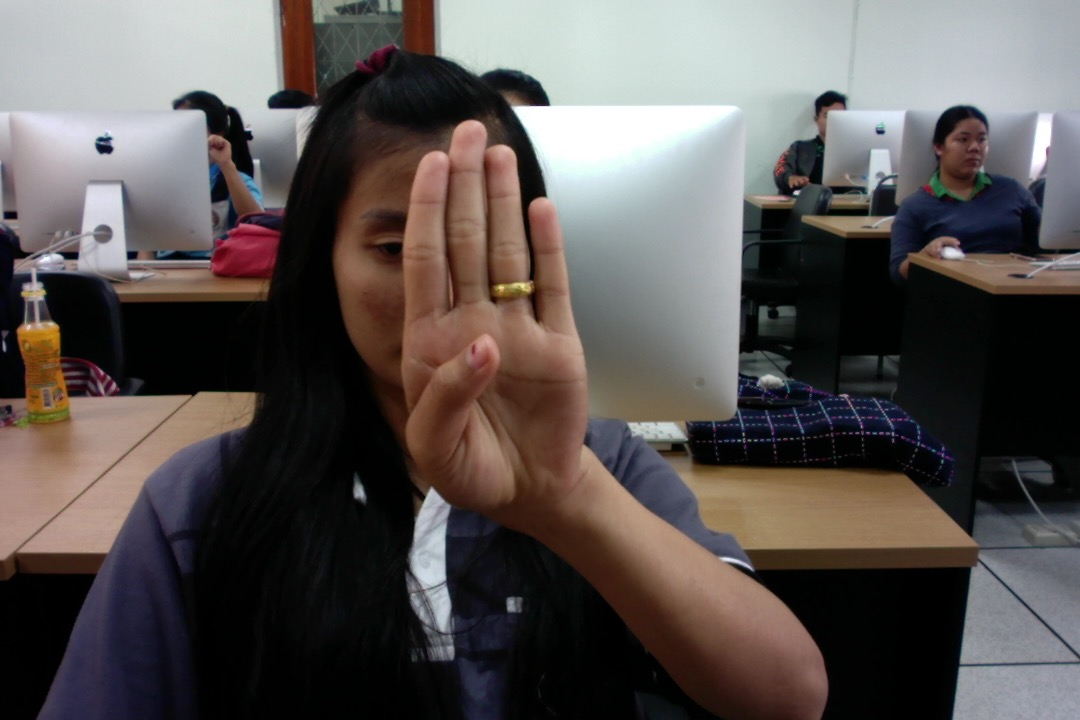bor: (392, 114, 600, 532)
